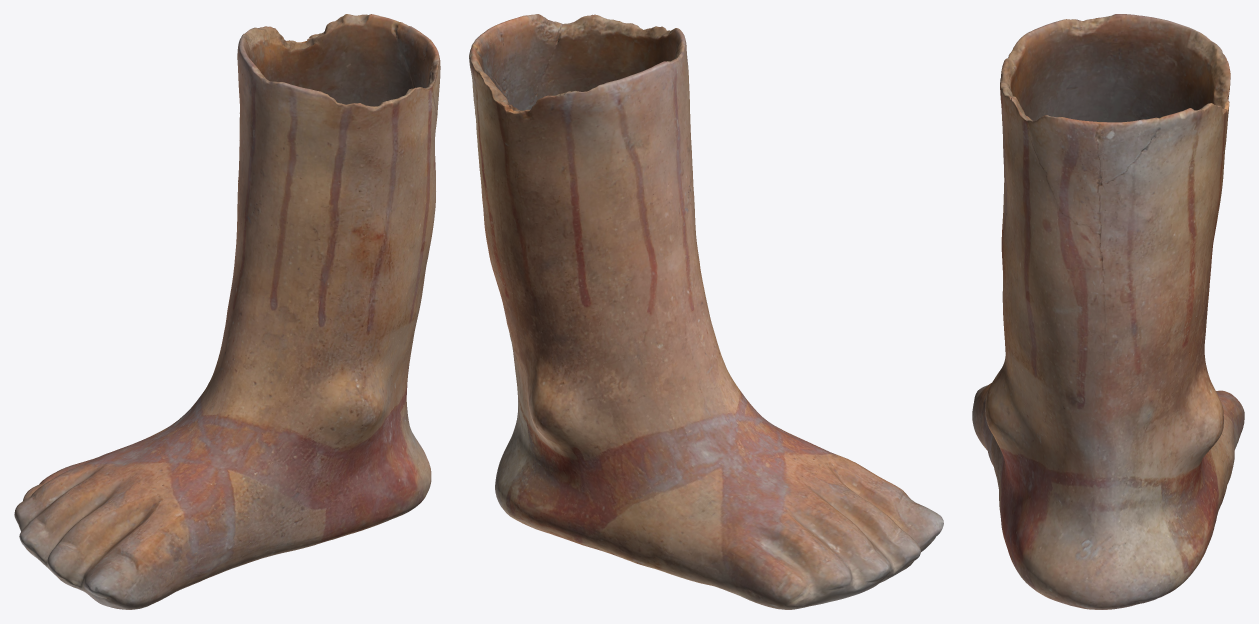
Rendered from vaso_ceremonial_incaico.glb.
3 renders of one model, left to right at view 1: azimuth 30°, elevation 25°; view 2: azimuth 150°, elevation 25°; view 3: azimuth 270°, elevation 25°, orthographic. The views are drawn at different scales.
Visible parts, largest first — view 1: Object_2; view 2: Object_2; view 3: Object_2.
Boxes of the visible parts, x1,y1,x2,y2 form: Object_2: (14,14,440,609); Object_2: (469,14,943,609); Object_2: (972,14,1244,609).
Bounding box in the file's own units: 209 × 232 × 110.
Materials: 1 (1 with a texture image).
